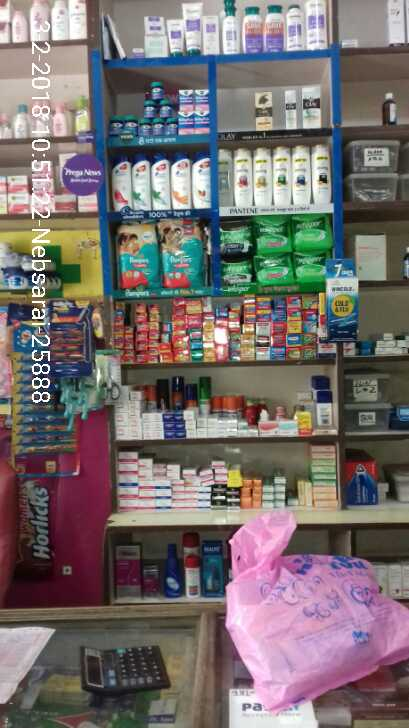vicks: (104, 81, 210, 135)
